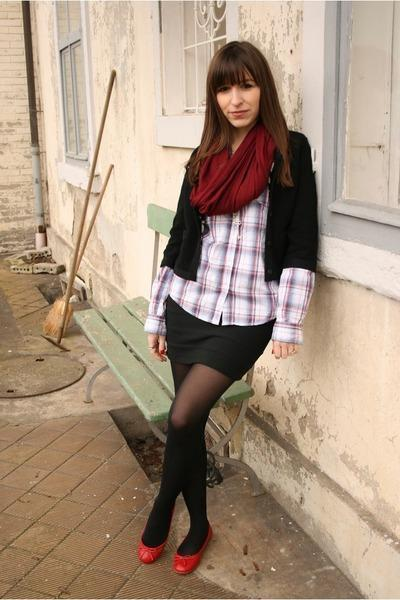jacket: (161, 132, 319, 284)
shirt: (144, 190, 314, 340)
shoe: (131, 542, 201, 575)
skirt: (160, 300, 273, 393)
